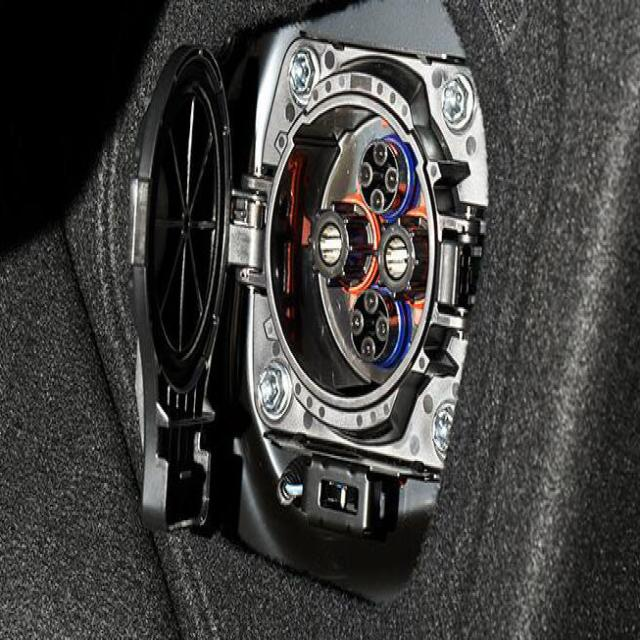CHAdeMO: (257, 98, 448, 430)
